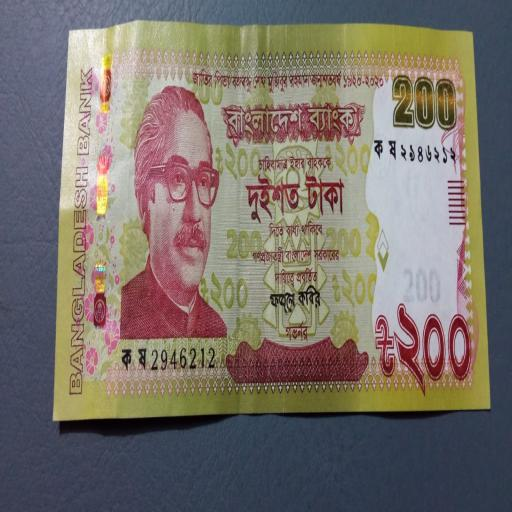200taka: (53, 22, 490, 420)
